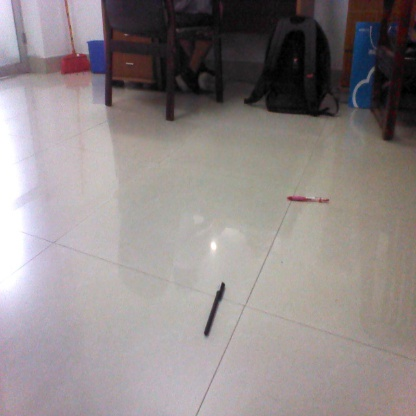pen: (204, 281, 227, 336), (285, 193, 330, 206)
